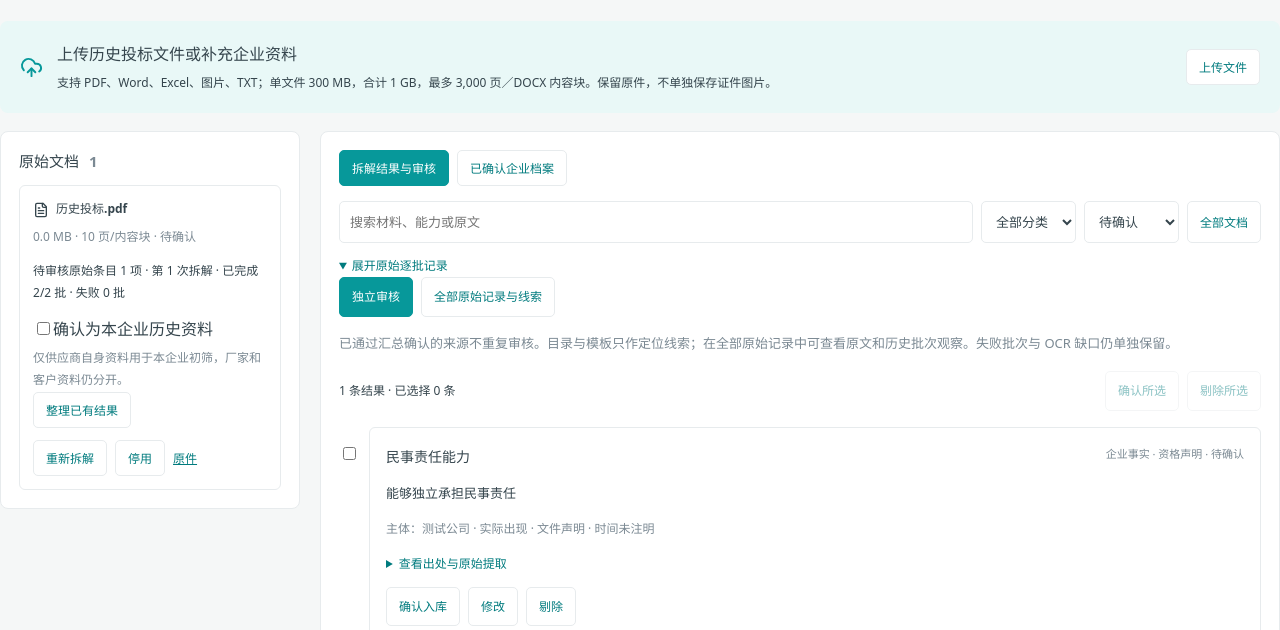
Test: shows service errors and preserves editable data when a review fails
(page scrolled)
Check: the text "民事责任能力" is shown, box [386,444,470,469]
Click the button "确认入库" at (423, 606), box [386,586,460,626]
(page scrolled)
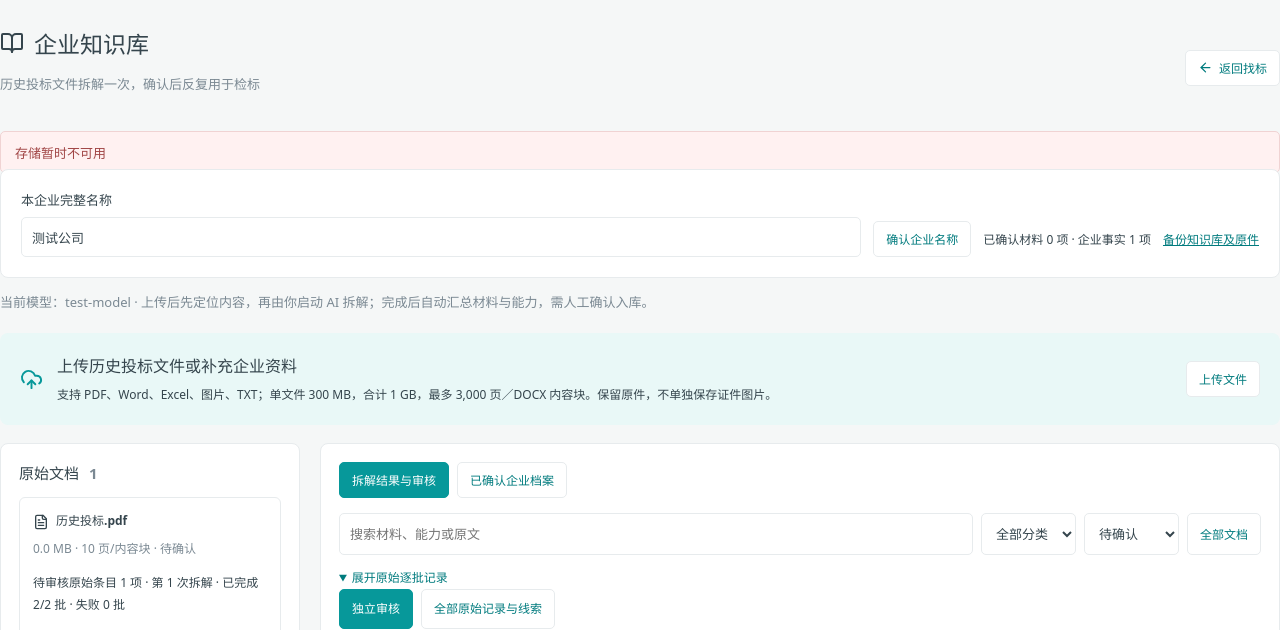
Check: the message reads "存储暂时不可用", box [15,144,106,162]
